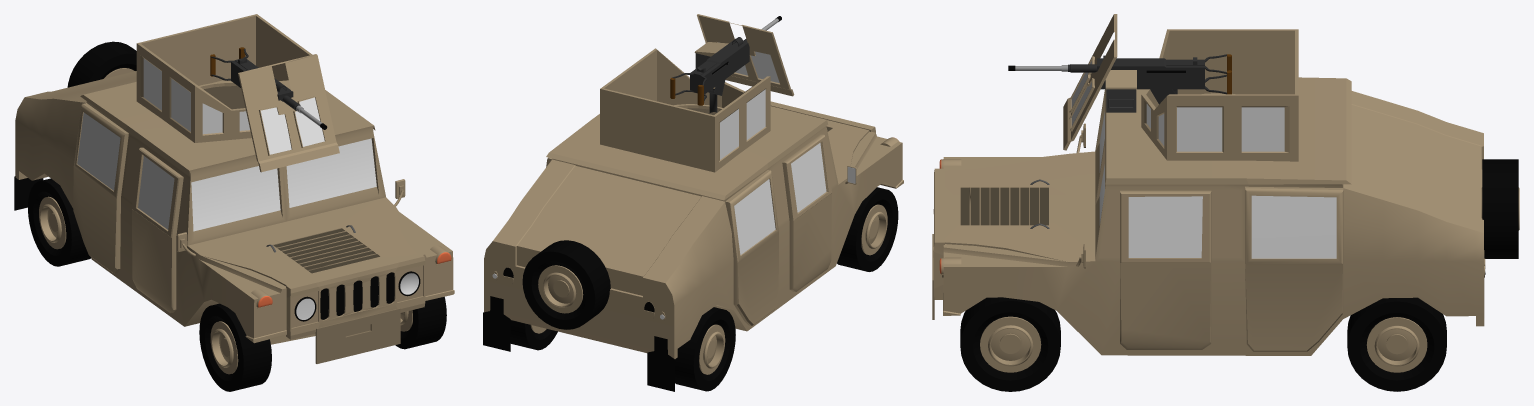
Rendered from humvee_a331_turret.glb.
The picture shows the model from 3 angles, left to right: view 1: azimuth 30°, elevation 25°; view 2: azimuth 150°, elevation 25°; view 3: azimuth 270°, elevation 25°; orthographic projection. The views are drawn at different scales.
Parts seen in each view (by area): view 1: Humvee, Turret, Shield, FrontPlate, WheelRight, WheelRightBack, Plate, BackUpWheel, WheelLeft, Gun, Hole; view 2: Humvee, Turret, BackUpWheel, WheelRightBack, WheelRight, Shield, Gun, WheelLeftBack, FrontPlate, Mag; view 3: Humvee, Turret, WheelLeft, WheelLeftBack, BackUpWheel, Gun, Shield, FrontPlate, Mag.
Boxes of the visible parts, x1,y1,x2,y2 form: Humvee: [14, 71, 454, 343]; Turret: [136, 14, 312, 142]; Shield: [238, 54, 339, 172]; FrontPlate: [286, 253, 425, 339]; WheelRight: [199, 303, 271, 391]; WheelRightBack: [28, 178, 90, 266]; Plate: [315, 308, 400, 363]; BackUpWheel: [67, 41, 136, 87]; WheelLeft: [395, 296, 446, 349]; Gun: [210, 47, 327, 129]; Hole: [199, 81, 245, 109]; Humvee: [483, 106, 903, 391]; Turret: [600, 48, 770, 172]; BackUpWheel: [522, 240, 610, 329]; WheelRightBack: [675, 307, 735, 391]; WheelRight: [837, 187, 898, 271]; Shield: [697, 14, 794, 96]; Gun: [670, 16, 781, 105]; WheelLeftBack: [510, 320, 557, 350]; FrontPlate: [770, 101, 875, 132]; Mag: [694, 42, 728, 68]; Humvee: [939, 77, 1485, 355]; Turret: [1141, 29, 1298, 161]; WheelLeft: [960, 297, 1060, 391]; WheelLeftBack: [1347, 297, 1446, 391]; BackUpWheel: [1481, 159, 1519, 258]; Gun: [1008, 54, 1231, 94]; Shield: [1063, 14, 1117, 150]; FrontPlate: [933, 168, 944, 299]; Mag: [1105, 70, 1136, 112].
Bounding box in the file's own units: 2.43 × 2.71 × 4.8.
